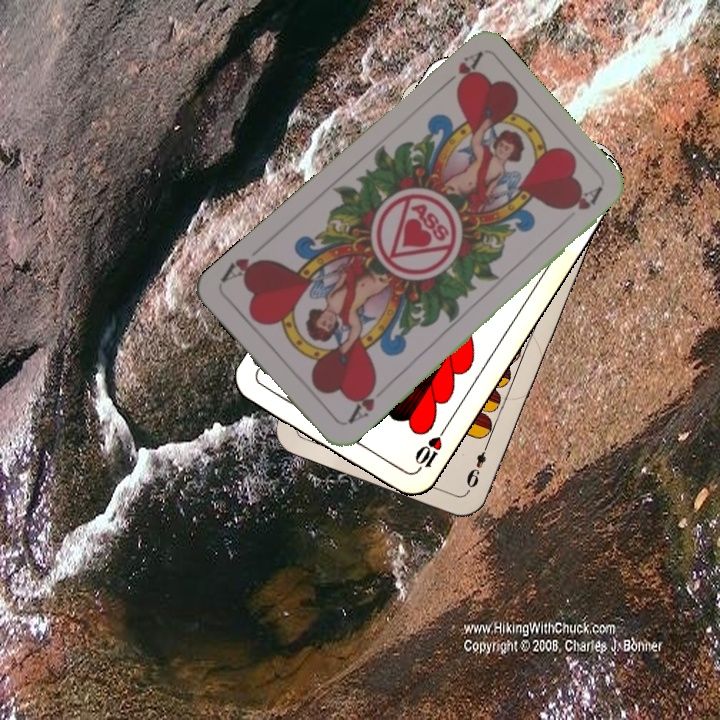E9: (462, 438, 492, 495)
H10: (410, 423, 449, 476)
HA: (343, 377, 390, 427), (434, 49, 484, 94)
